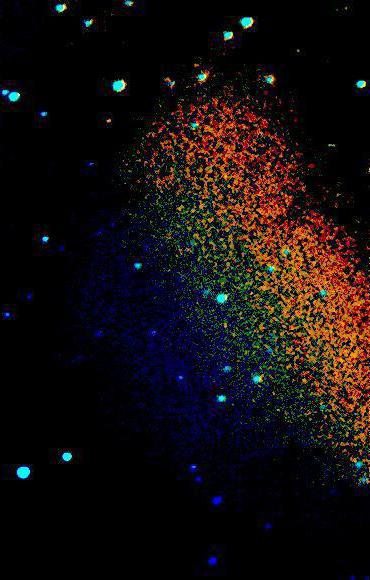star: (94, 104, 124, 134)
